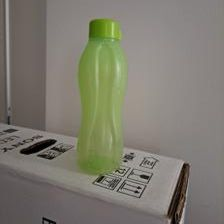bottle: (74, 15, 129, 174)
